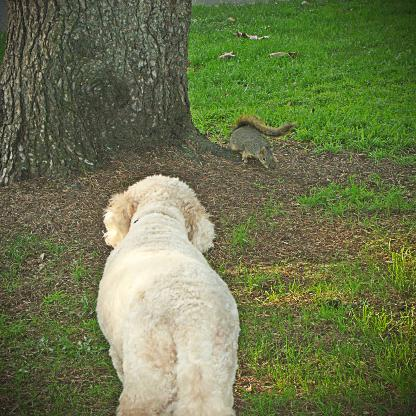Squirrel: (215, 116, 295, 170)
